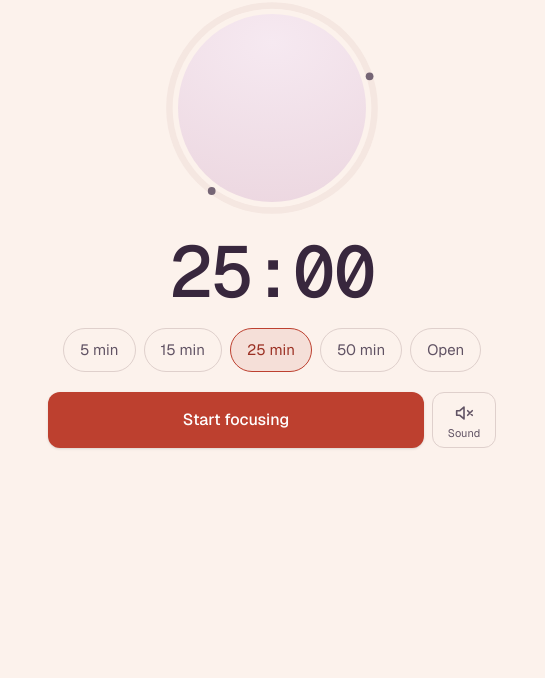
Test case: FocusTimer › clicking Start shows a running timer and checks in with only the session id
The width and height of the screenshot is (545, 678).
Click the button "Start focusing": (236,420) [48,392,424,448]
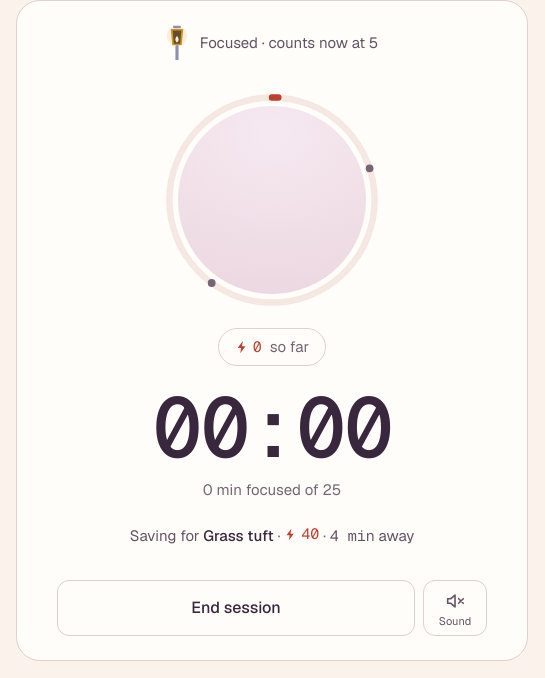
Now the button "End session" is shown, box [57,580,415,636]
Now the text with test id "elapsed" reads "00:00", box [152,373,392,482]
Now the message shows "Focused", box [200,33,378,52]
